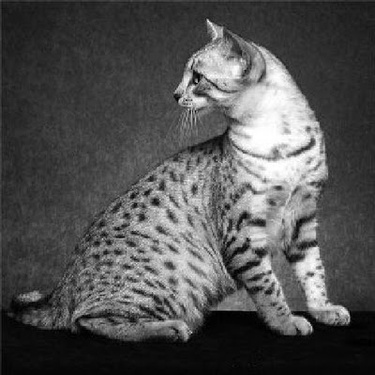cat: (7, 9, 361, 346)
